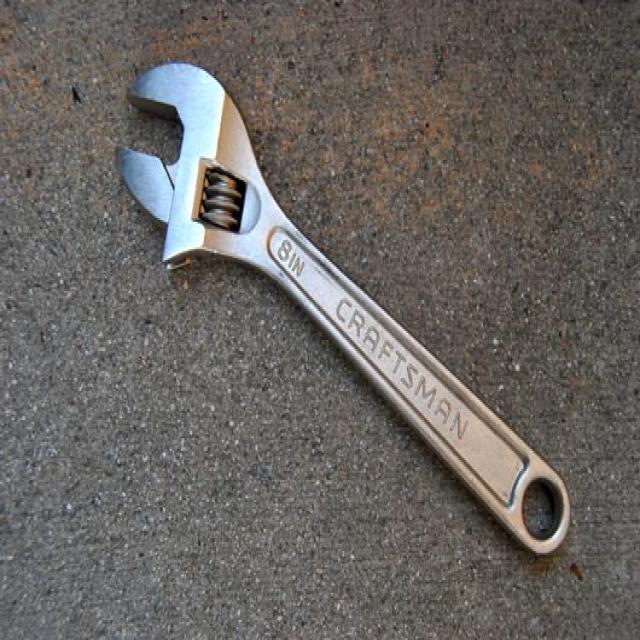wrench: (115, 53, 580, 571)
